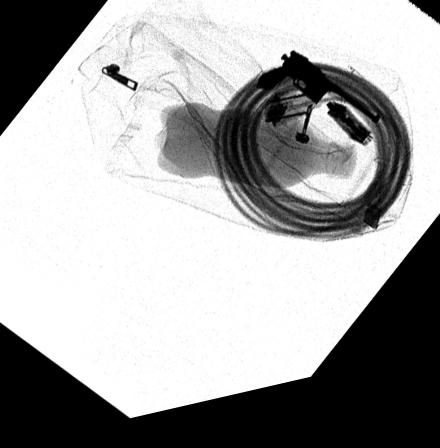Gun: (259, 62, 383, 142)
